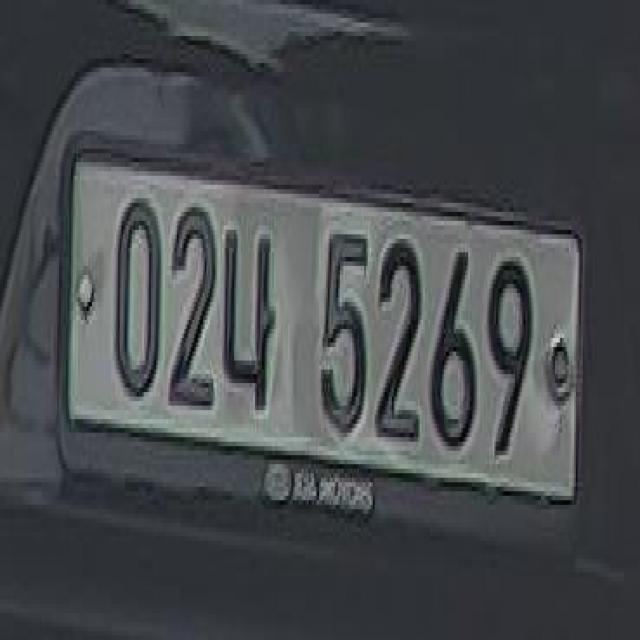illegal_plate: (63, 153, 590, 540)
